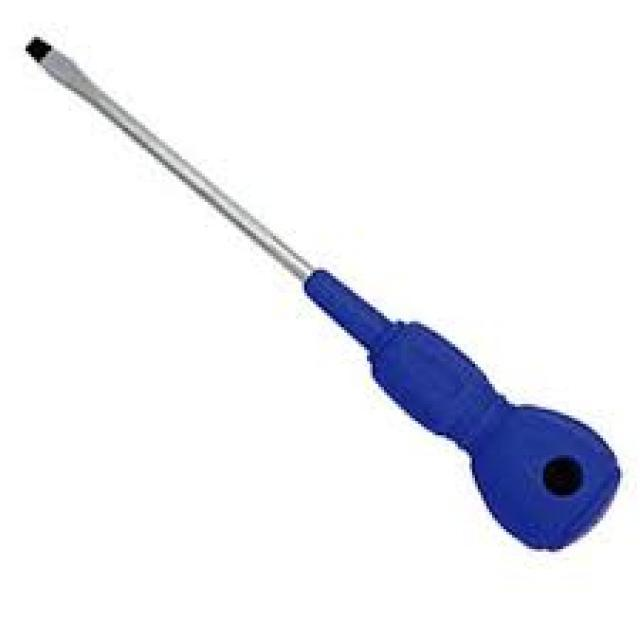screwdriver: (20, 33, 626, 559)
